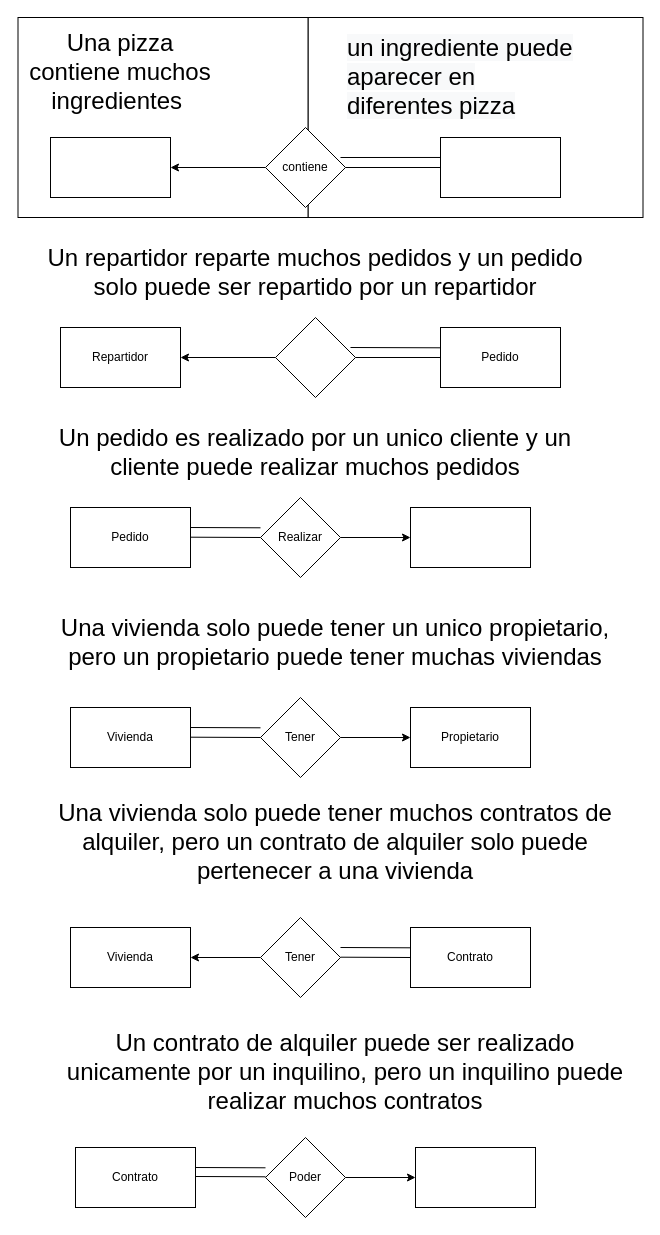
Image size: 660x1235. Some labels were removed from this diagram. The shapes that lost their labels are listed below. From the top down, each one's centre as x and y in pixels, then its label:
(110,167): PIZZA
(500,167): INGREDIENTES
(315,357): Distribuir
(470,537): Cliente
(475,1177): Inquilino
